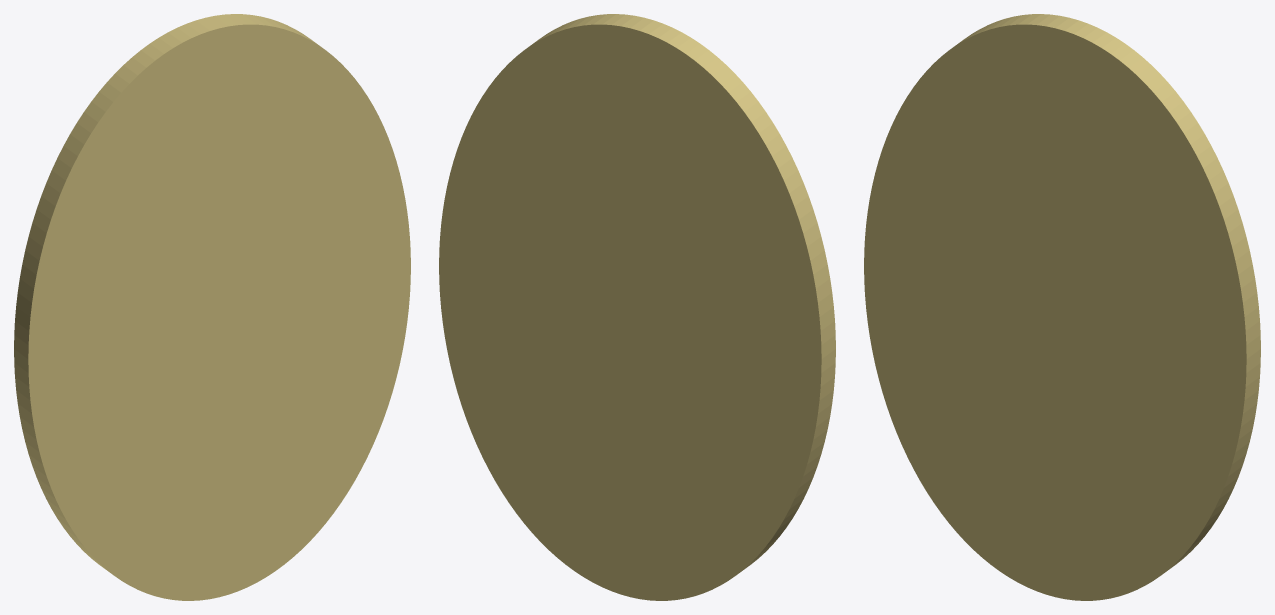
The model's file is subcutaneous_fat.glb.
3 renders of one model, left to right at view 1: azimuth 30°, elevation 25°; view 2: azimuth 150°, elevation 25°; view 3: azimuth 330°, elevation 25°, orthographic.
Visible parts, largest first — view 1: subcutaneous_fat; view 2: subcutaneous_fat; view 3: subcutaneous_fat.
Boxes of the visible parts, <box> form: subcutaneous_fat: <box>14,14,410,600</box>; subcutaneous_fat: <box>439,14,835,600</box>; subcutaneous_fat: <box>864,14,1260,600</box>.
Bounding box in the file's own units: 0.3686 × 0.5238 × 0.024.
